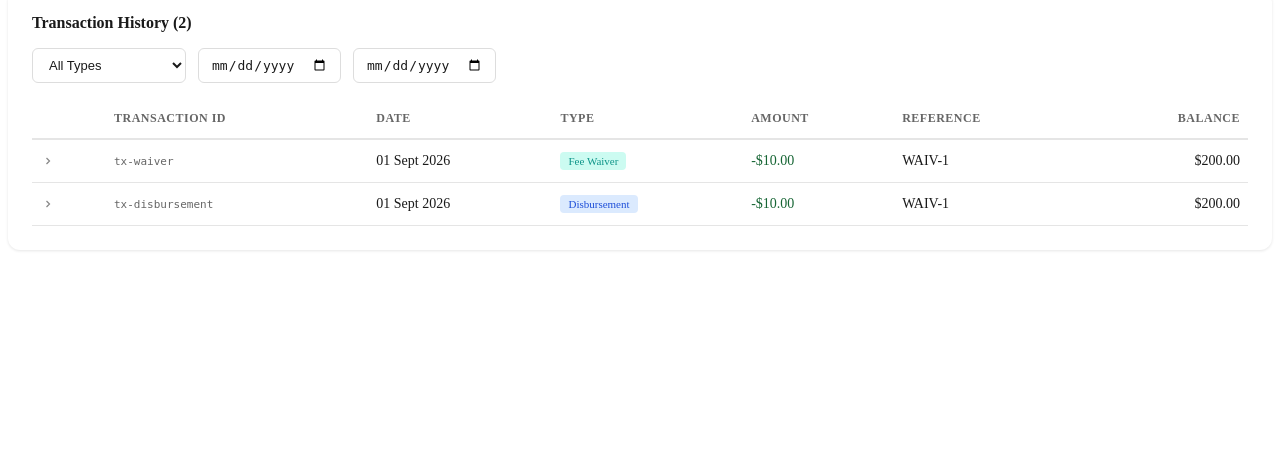
Test: TransactionHistory — transaction detail disclosure › keeps two rows open at once for comparison
Click the button named "show details": [48, 161] box [36,149,60,173]
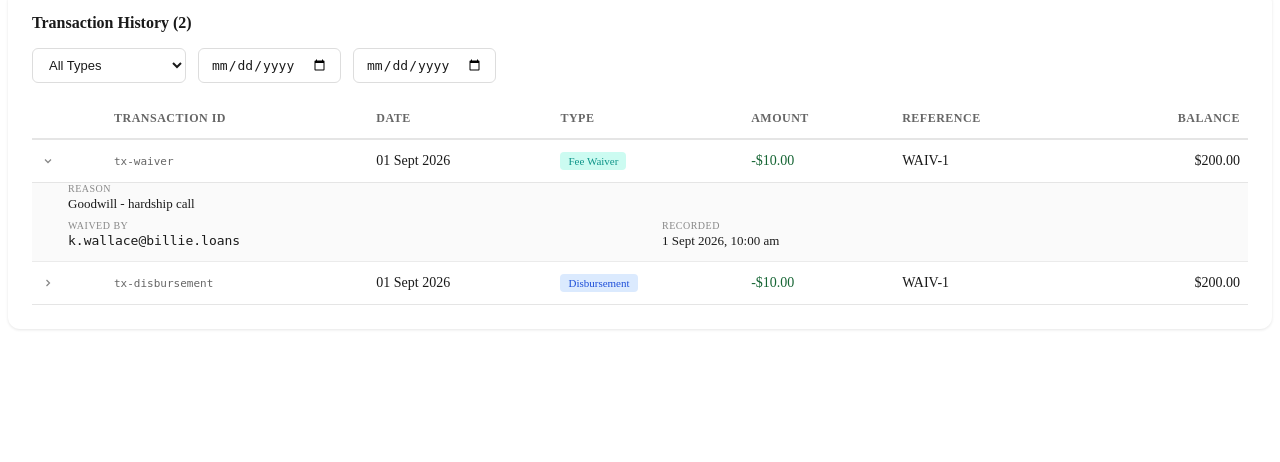
Click the button named "show details": [48, 283] box [36,271,60,295]
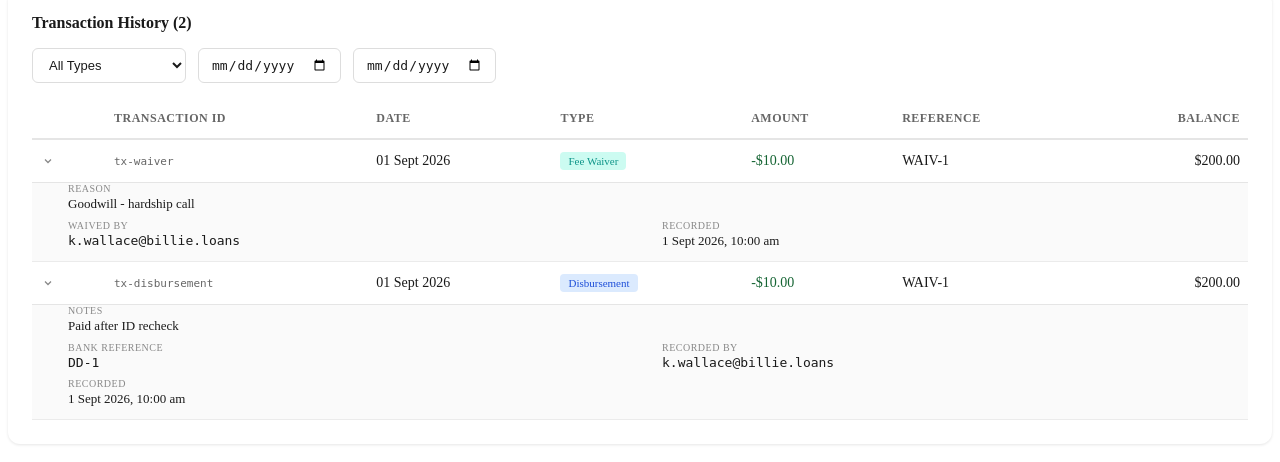
Now the text "Goodwill - hardship call" is shown, box [68,196,195,211]
Now the text "Paid after ID recheck" is shown, box [68,318,179,333]
